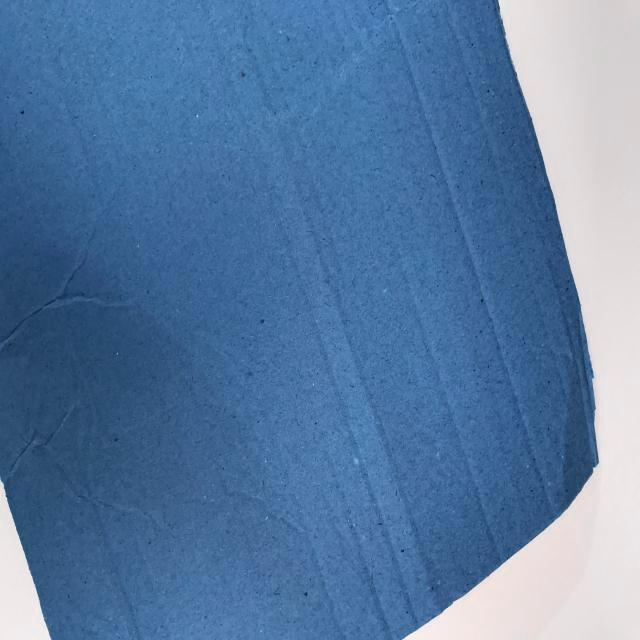cardboard: (1, 0, 606, 640)
